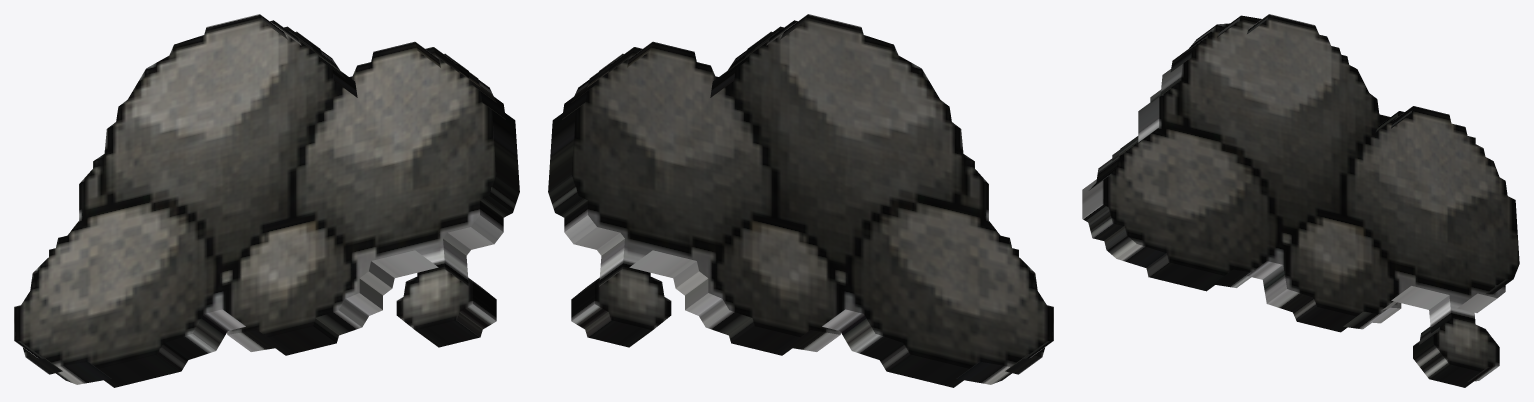
Rendered from rocks.glb.
The picture shows the model from 3 angles, left to right: view 1: azimuth 30°, elevation 25°; view 2: azimuth 150°, elevation 25°; view 3: azimuth 330°, elevation 25°; orthographic projection. The views are drawn at different scales.
Visible parts, largest first — view 1: world; view 2: world; view 3: world.
Part boxes in pixels (x1,y1,x2,y2): world: (14, 14, 519, 387); world: (548, 14, 1053, 387); world: (1082, 14, 1519, 387).
Size of the model in its own units: 2.08 by 1.46 by 0.1764.
1 material, 1 textured.
